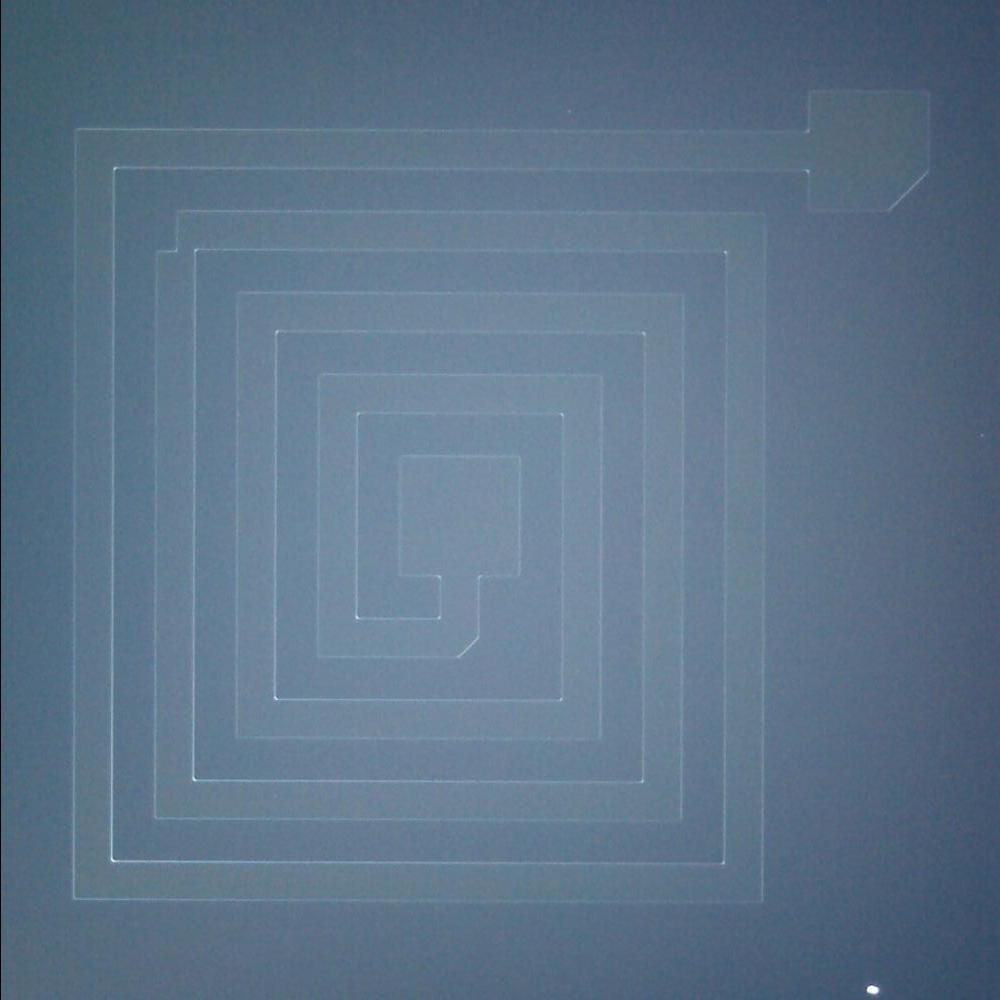edge circuit: (874, 166, 940, 226), (144, 204, 190, 262), (444, 630, 490, 670)
spot: (858, 978, 885, 999)
